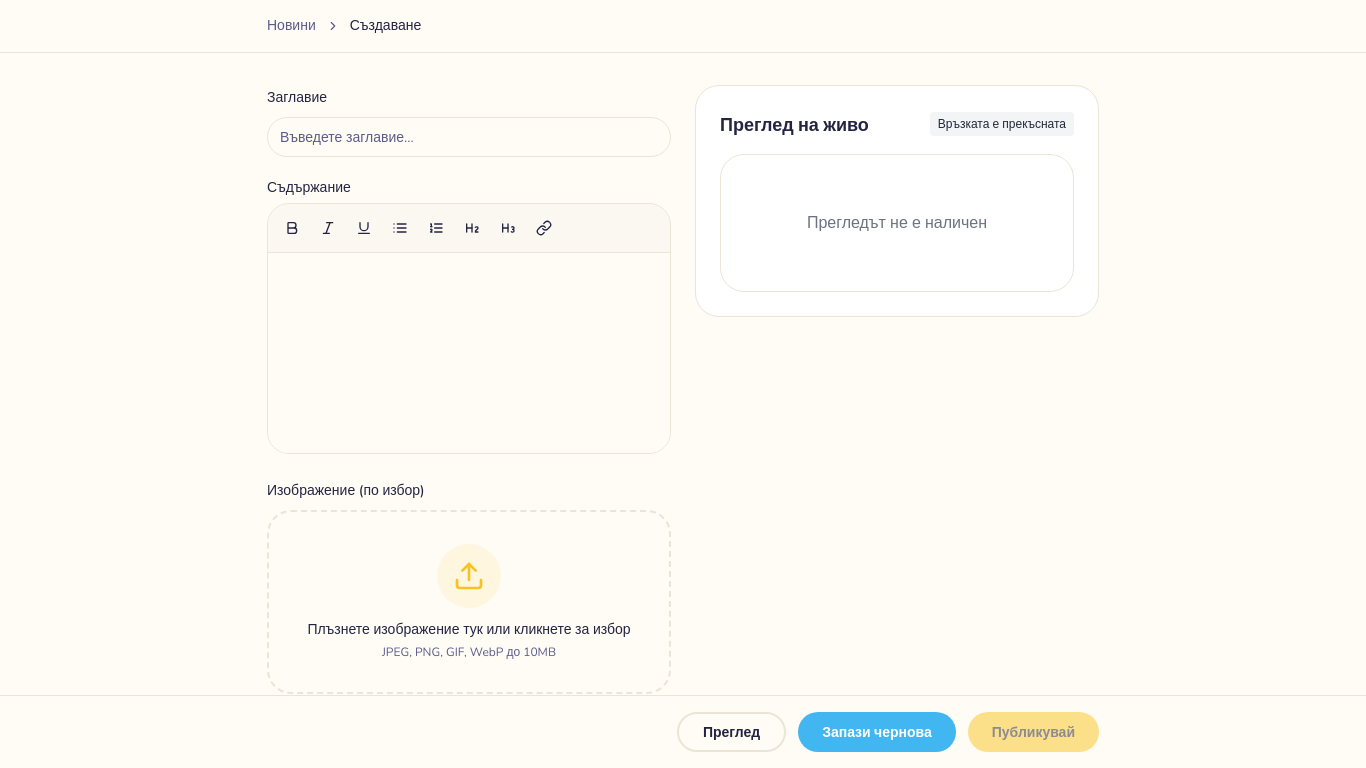
Scenario: NewsCreate › Preview Modal Integration › closing PreviewModal returns focus to Preview button
What coordinates should you click on to do the following:
click the button "Преглед"
I would click on:
 (732, 732)
Its box is [677,712,786,752].
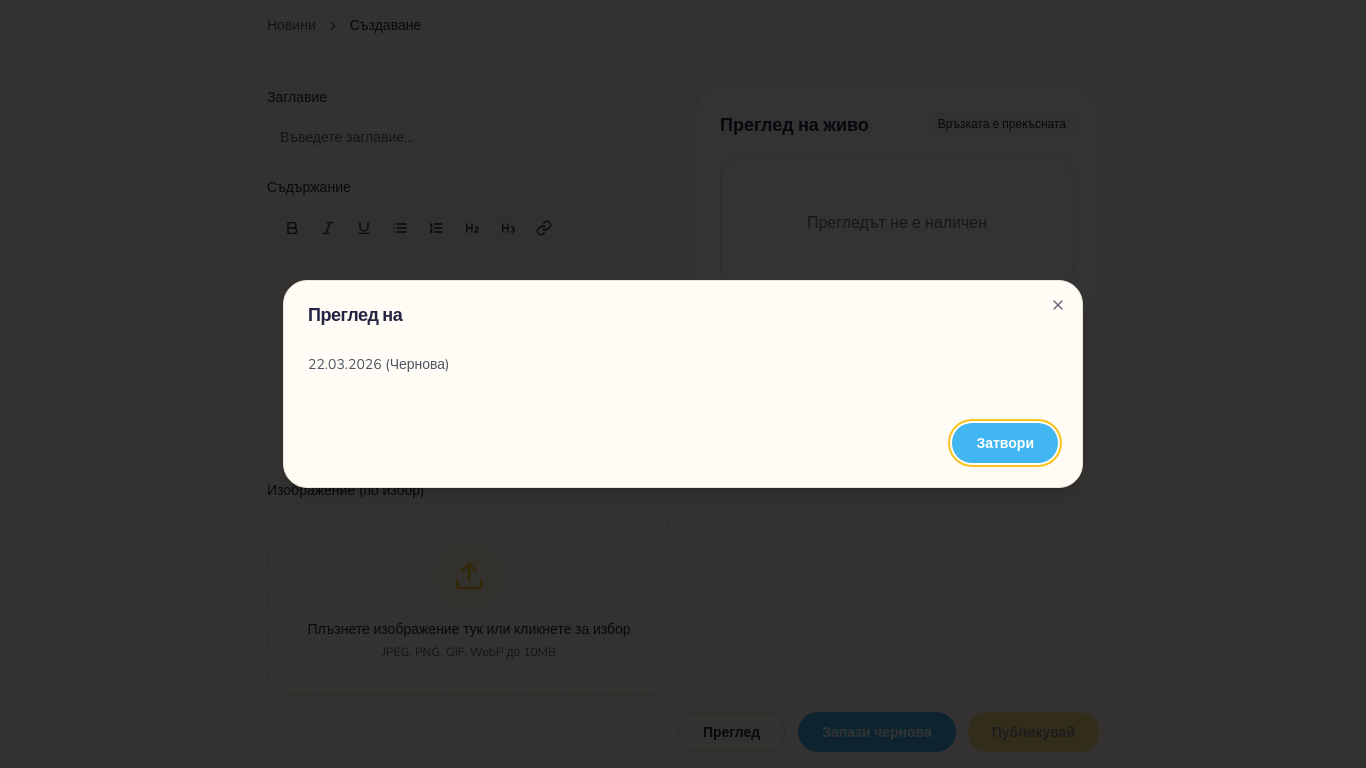
Result: the dialog is shown at [283,280,1083,488]
Result: the button "Затвори" is shown
What coordinates should you click on to do the following:
click the button "Затвори"
I would click on:
 (1005, 443)
Its box is [952,423,1058,463].
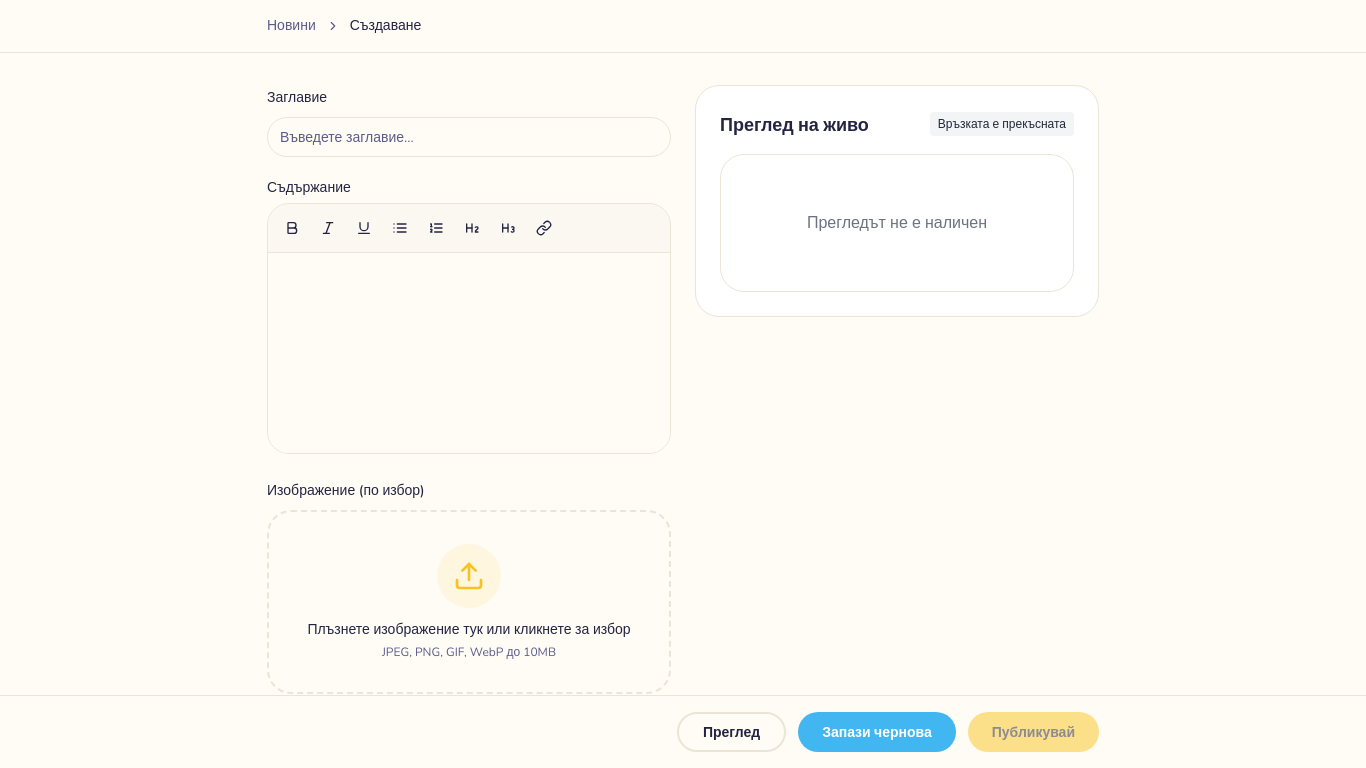
Result: the dialog is gone
